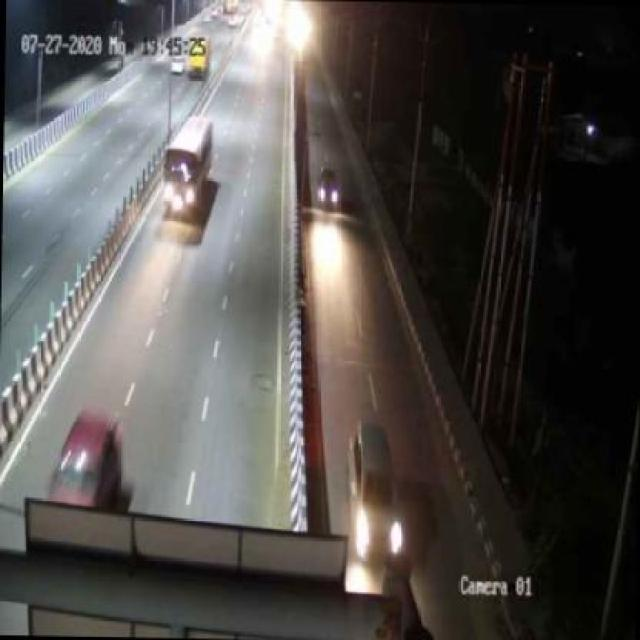car: (44, 409, 134, 503), (342, 432, 408, 557), (316, 166, 346, 214)
